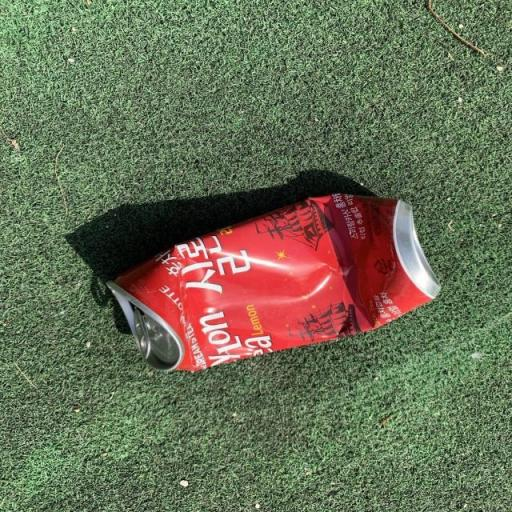metal: (42, 156, 494, 474)
